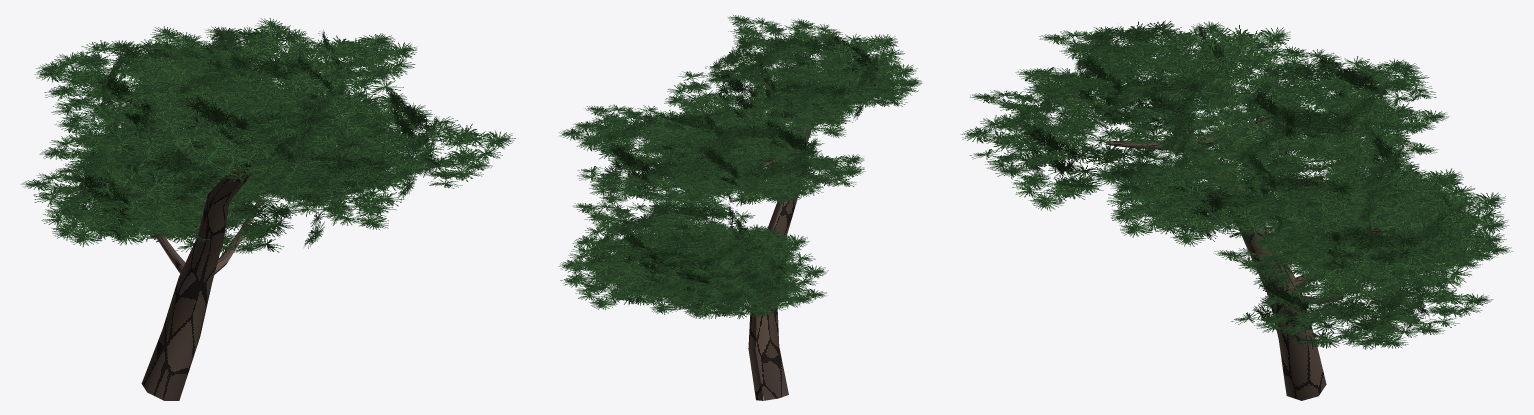
File: flora_pine.glb
3 views of the same model, side by side, from view 1: azimuth 30°, elevation 25°; view 2: azimuth 150°, elevation 25°; view 3: azimuth 270°, elevation 25° (orthographic). The views are drawn at different scales.
Parts seen in each view (by area): view 1: flora_pine; view 2: flora_pine; view 3: flora_pine.
Boxes of the visible parts, x1,y1,x2,y2 form: flora_pine: (21, 18, 515, 400); flora_pine: (558, 15, 922, 400); flora_pine: (961, 20, 1512, 400).
Size of the model in its own units: 5.73 by 5.5 by 7.88.
2 materials, 2 textured.
